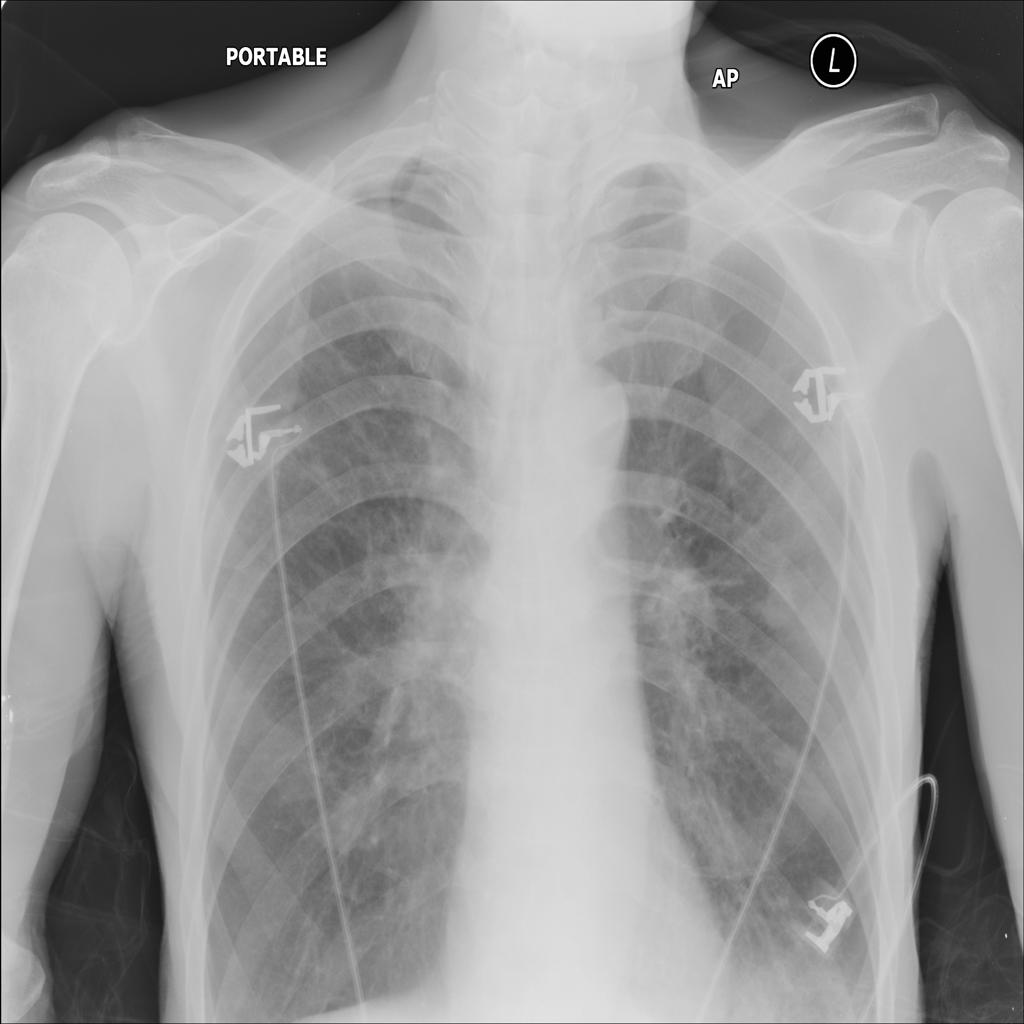nodule: (742, 561, 808, 645), (763, 726, 807, 782)
